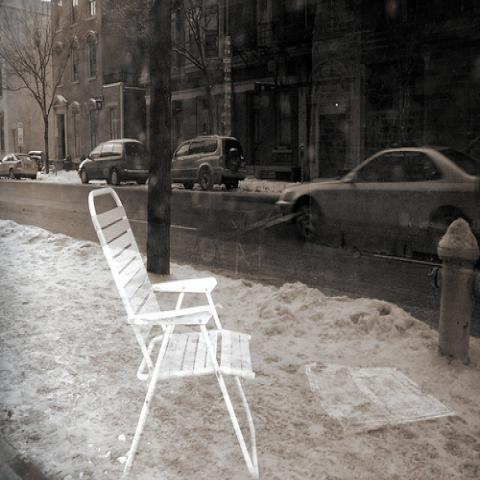car: (277, 148, 479, 251), (172, 136, 248, 192), (78, 138, 149, 185), (0, 152, 39, 180)
